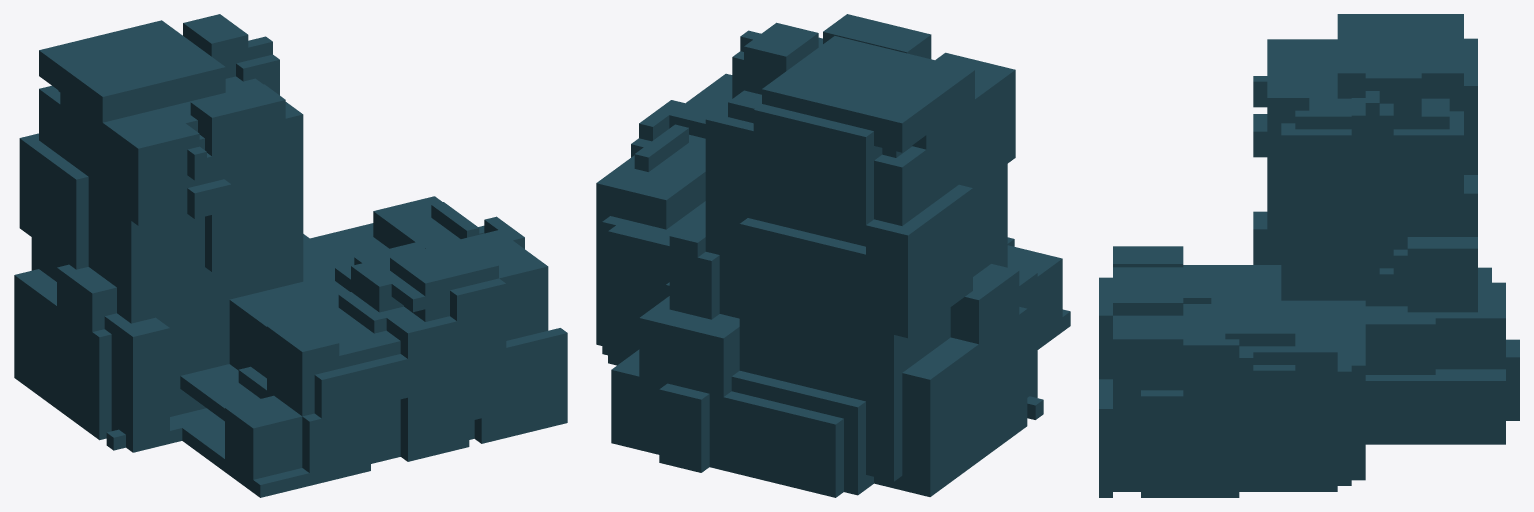
The model's file is large_stones_deco.glb.
3 renders of one model, left to right at view 1: azimuth 30°, elevation 25°; view 2: azimuth 150°, elevation 25°; view 3: azimuth 270°, elevation 25°, orthographic. The views are drawn at different scales.
Parts seen in each view (by area): view 1: large_stones_deco; view 2: large_stones_deco; view 3: large_stones_deco.
Part boxes in pixels (x1=…): large_stones_deco: x1=14, y1=14, x2=567, y2=497; large_stones_deco: x1=596, y1=14, x2=1070, y2=497; large_stones_deco: x1=1099, y1=14, x2=1519, y2=497.
Size of the model in its own units: 3 by 2.6 by 3.
